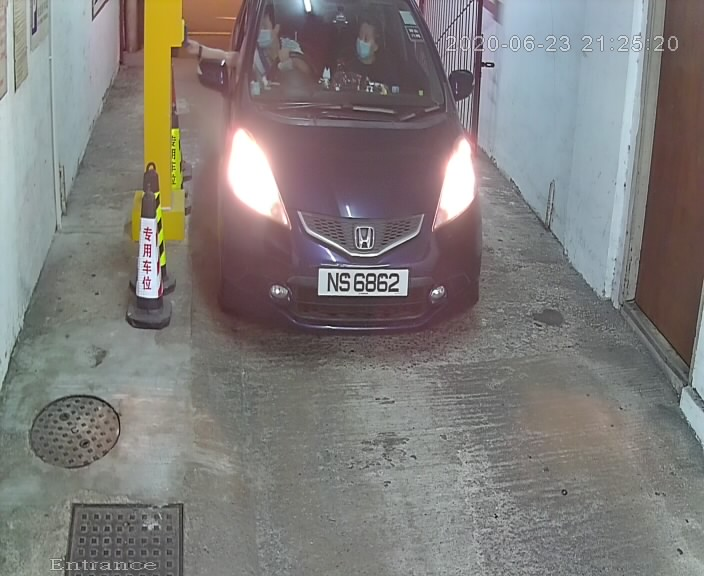privatecar: (191, 1, 497, 343)
